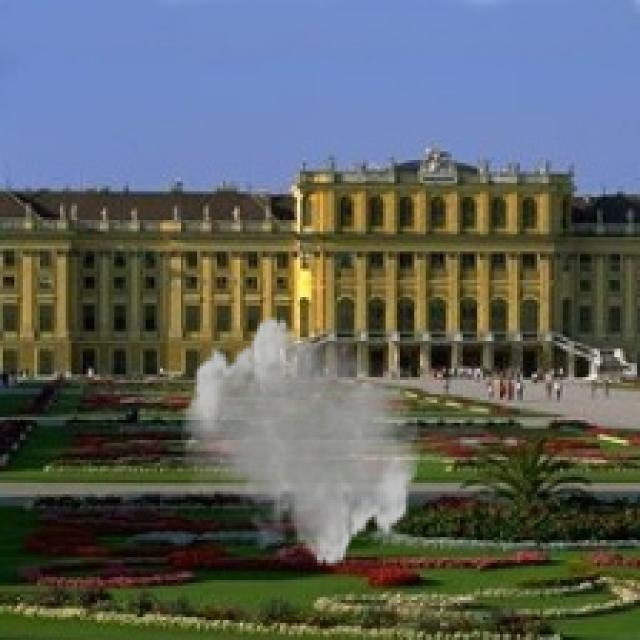smoke: (180, 314, 423, 569)
